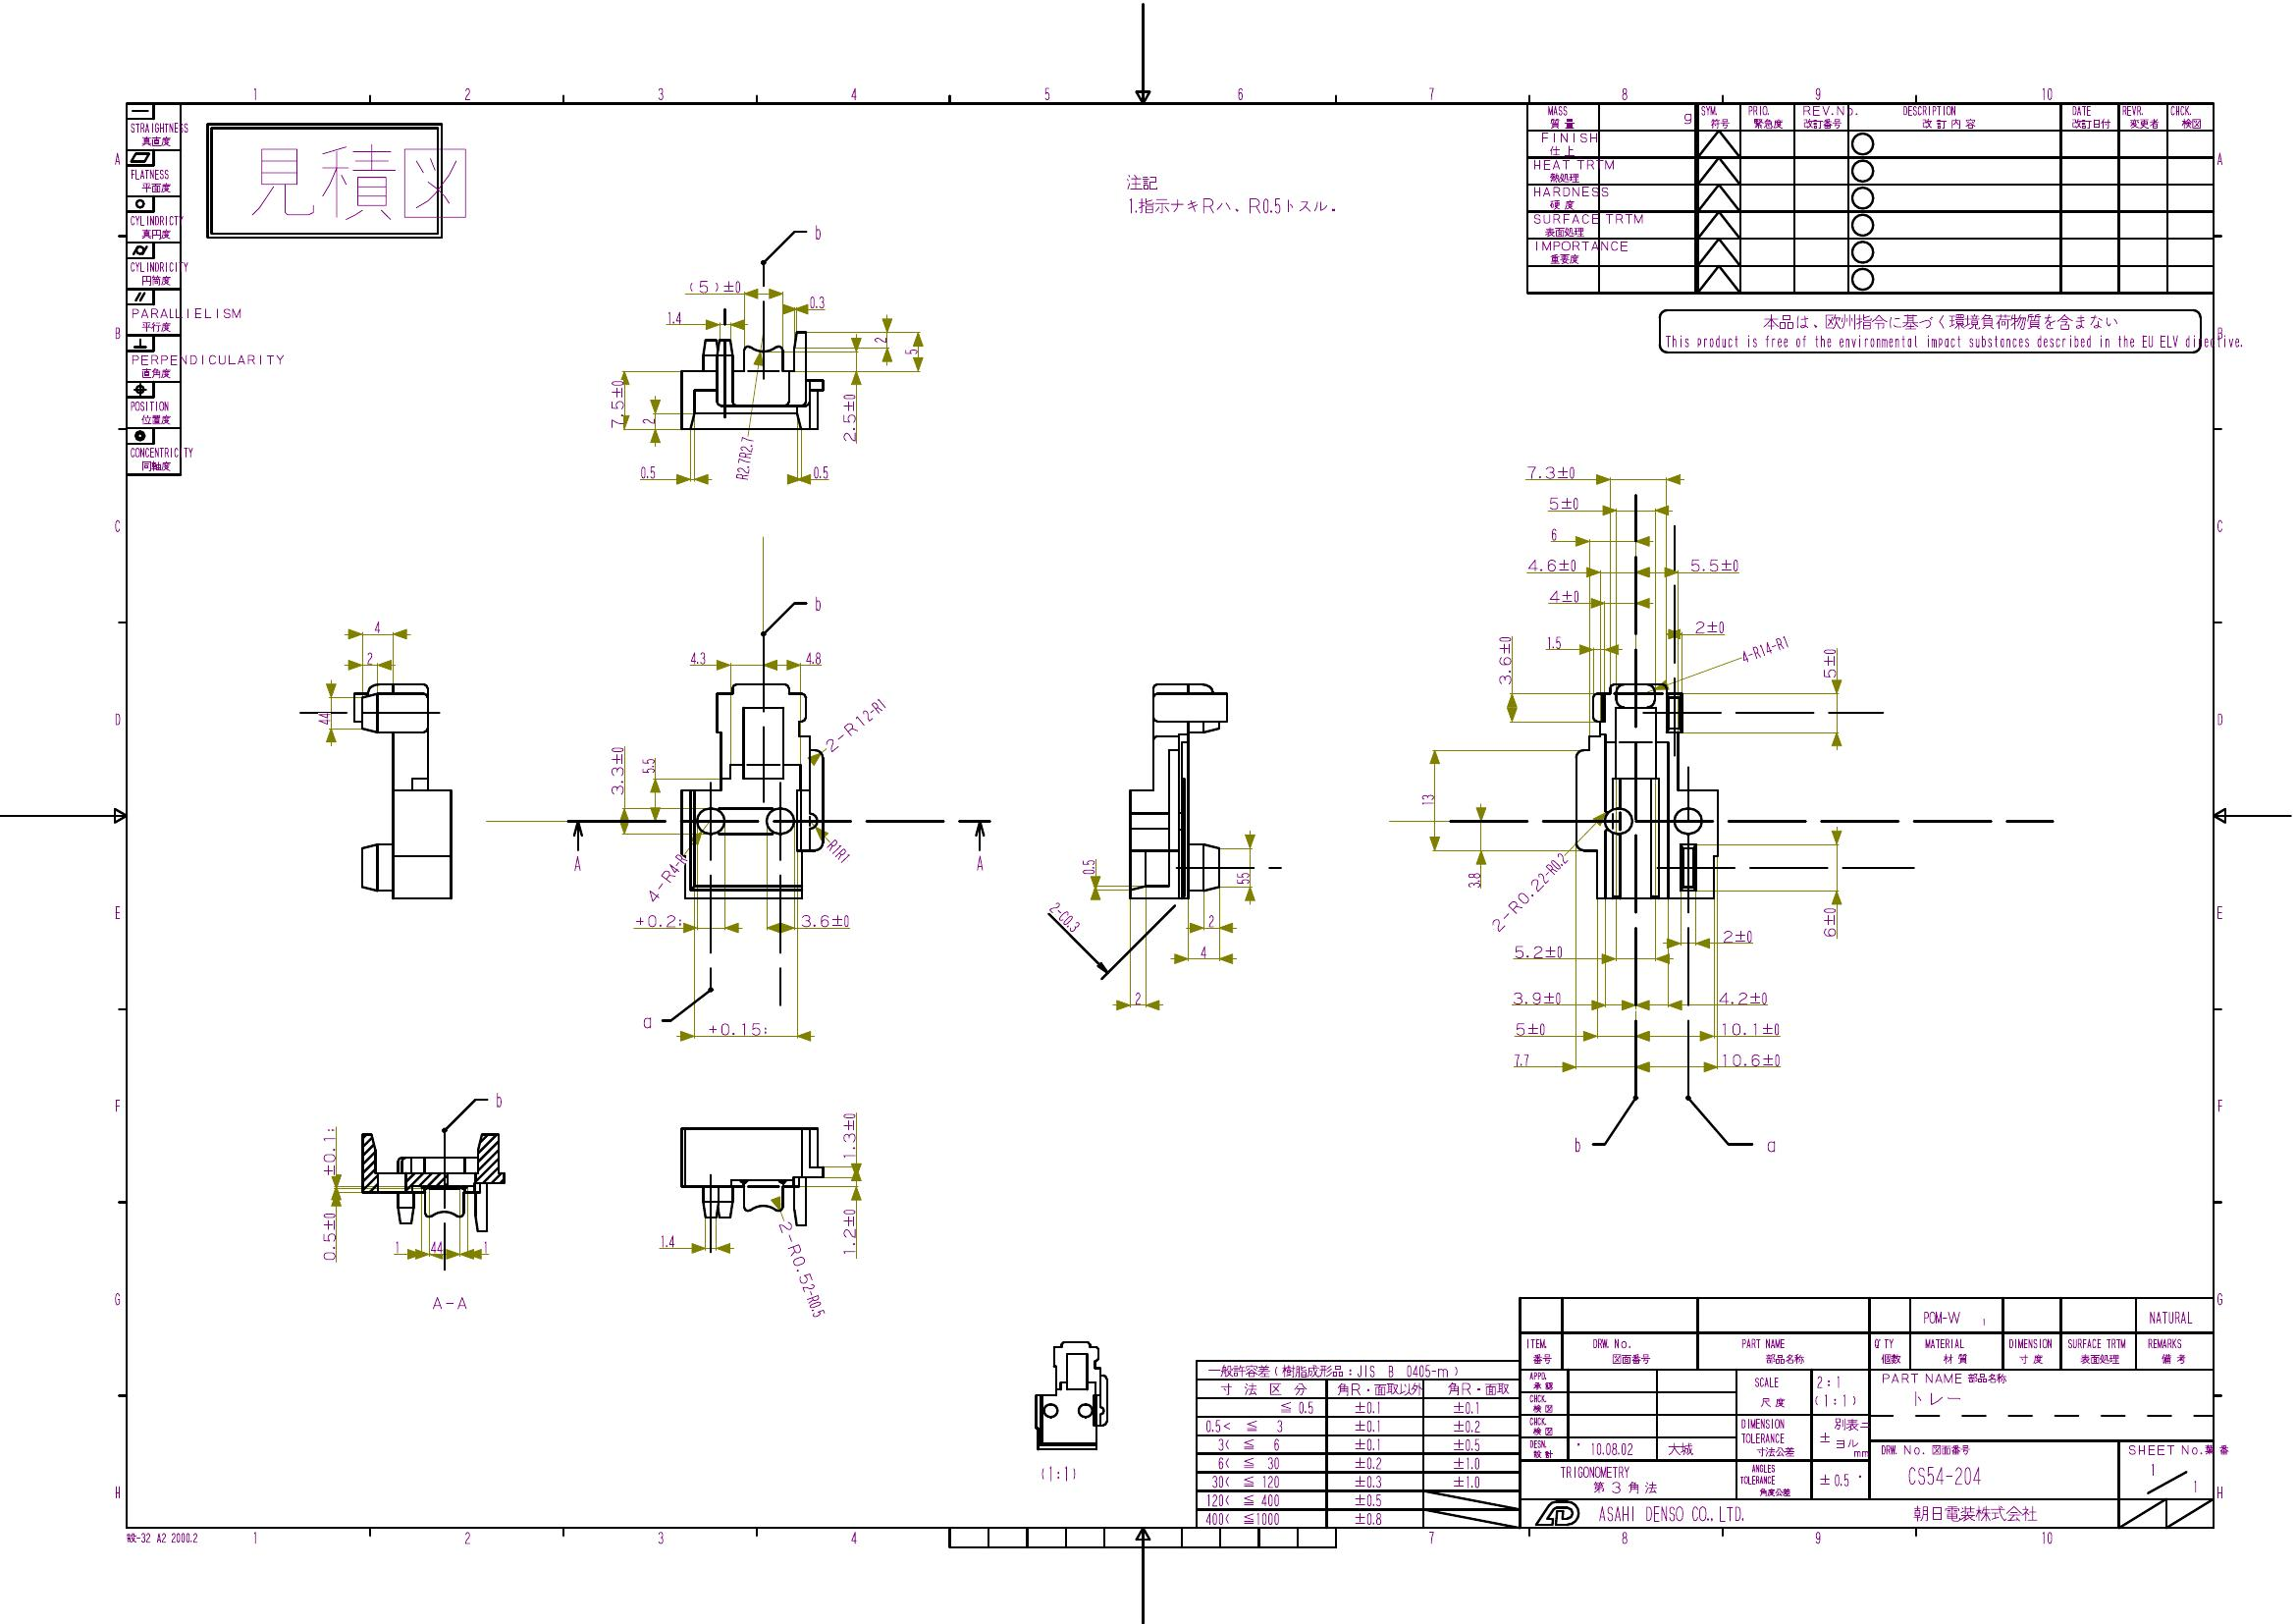anntotation_text: (204, 121, 469, 239), (1657, 308, 2245, 353), (1124, 170, 1339, 214), (125, 1531, 197, 1545), (1040, 1464, 1079, 1483), (429, 1294, 467, 1311), (975, 852, 987, 872), (641, 1014, 653, 1032), (812, 594, 822, 613), (1764, 1139, 1776, 1153), (1572, 1135, 1581, 1153), (573, 854, 581, 872), (494, 1090, 502, 1107), (813, 223, 820, 239)
dimension_text: (1476, 882, 1585, 898), (748, 1260, 856, 1276), (817, 715, 896, 731), (606, 376, 627, 429), (639, 866, 696, 886), (1722, 1019, 1780, 1037), (1688, 554, 1739, 573), (1720, 1051, 1781, 1067), (606, 743, 624, 796), (687, 279, 745, 295), (840, 390, 857, 441), (799, 910, 850, 928), (1513, 942, 1563, 960), (1525, 555, 1576, 573), (841, 1206, 859, 1255), (1509, 990, 1563, 1005), (1737, 642, 1792, 657), (1497, 634, 1513, 687), (1716, 990, 1767, 1005), (706, 1023, 771, 1035), (321, 1127, 337, 1176), (321, 1211, 337, 1260), (841, 1111, 857, 1160), (634, 912, 683, 928), (1525, 464, 1574, 480), (1692, 615, 1725, 634), (1047, 909, 1084, 924), (1514, 1019, 1546, 1037), (1720, 928, 1753, 944), (1820, 905, 1836, 939), (1822, 647, 1838, 680), (1548, 589, 1581, 605), (824, 842, 854, 859), (1548, 496, 1581, 510), (810, 464, 831, 482), (808, 292, 826, 311), (687, 650, 708, 666), (638, 756, 655, 773), (805, 649, 822, 666), (657, 1232, 676, 1248), (1465, 870, 1481, 889), (1544, 633, 1563, 649), (638, 464, 655, 480), (1233, 870, 1251, 886), (429, 1239, 444, 1255), (1080, 858, 1094, 875), (1511, 1051, 1528, 1065), (1418, 793, 1433, 807), (871, 334, 889, 346), (666, 311, 683, 323), (316, 710, 330, 724), (901, 344, 917, 357), (371, 619, 381, 634), (1131, 990, 1142, 1005), (1548, 526, 1558, 540), (639, 415, 655, 424), (480, 1237, 488, 1253), (393, 1237, 402, 1251), (1205, 914, 1214, 928), (1198, 946, 1207, 958), (365, 650, 372, 664)
object: (678, 682, 826, 900), (1574, 682, 1720, 900), (351, 682, 455, 902), (1128, 682, 1230, 902), (358, 1128, 508, 1232), (678, 1125, 826, 1227), (678, 329, 824, 431), (1033, 1339, 1110, 1452)
title_block: (1193, 1295, 2215, 1529), (1525, 98, 2217, 297), (123, 102, 181, 478)
